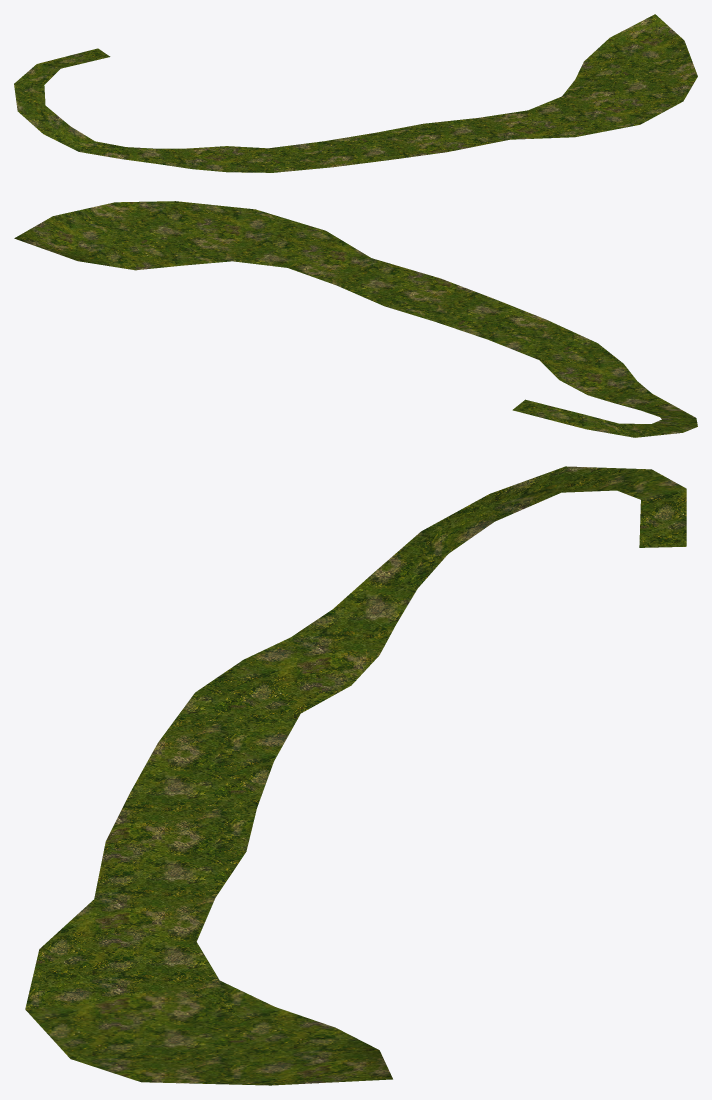
File: OVERHILL_A_01_LINE90.fbx
3 views of the same model, one above another, from view 1: azimuth 30°, elevation 25°; view 2: azimuth 150°, elevation 25°; view 3: azimuth 270°, elevation 25° (orthographic). The views are drawn at different scales.
Parts seen in each view (by area): view 1: OVERHILL_A_01_LINE90; view 2: OVERHILL_A_01_LINE90; view 3: OVERHILL_A_01_LINE90.
Boxes of the visible parts, box(x1,y1,x2,y2) form: OVERHILL_A_01_LINE90: box(14, 14, 697, 172); OVERHILL_A_01_LINE90: box(14, 201, 697, 437); OVERHILL_A_01_LINE90: box(25, 466, 686, 1085).
Bounding box in the file's own units: 136360 × 10383 × 65694.
Materials: 1 (1 with a texture image).
